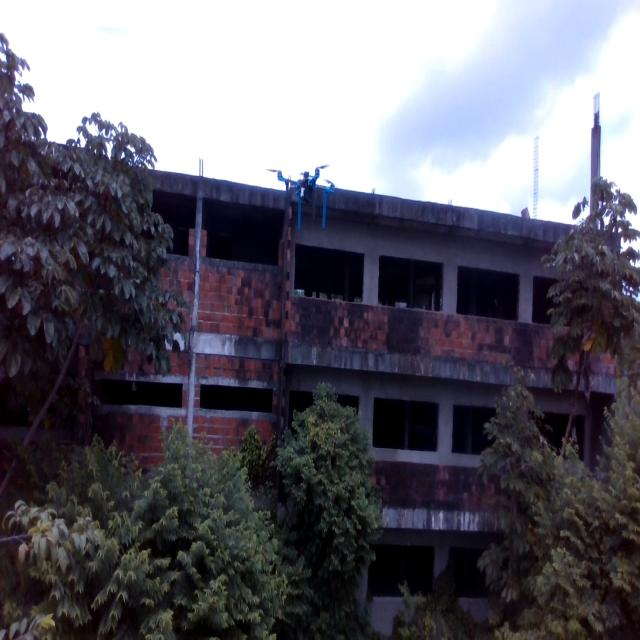-uav-: (269, 146, 343, 232)
